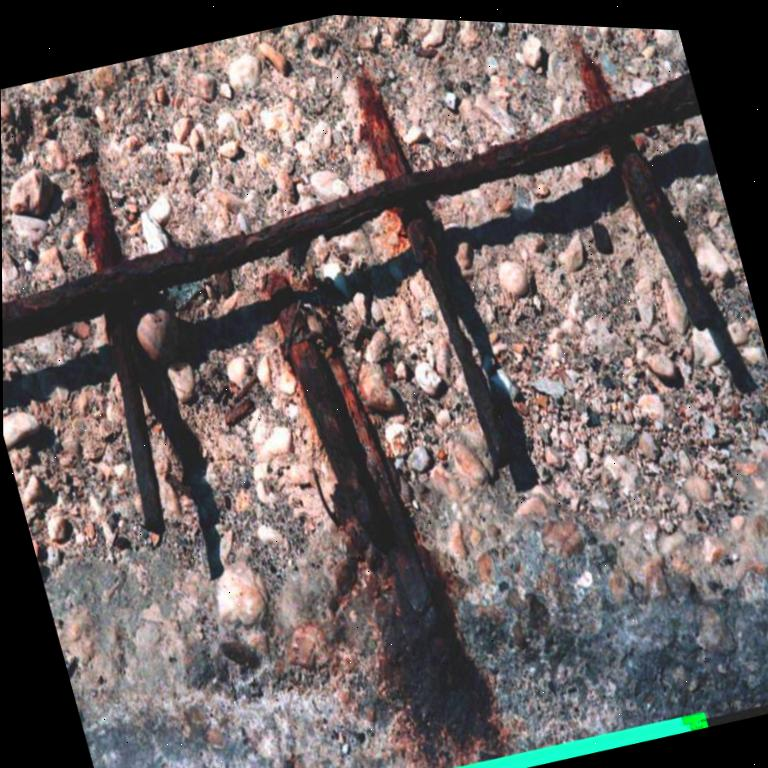exposed_rebar: (2, 40, 755, 532), (279, 303, 431, 613)
spalling: (1, 15, 768, 768)
